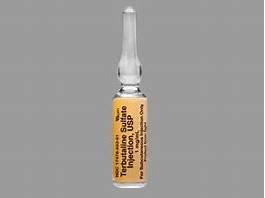Syringe: (108, 4, 152, 198)
